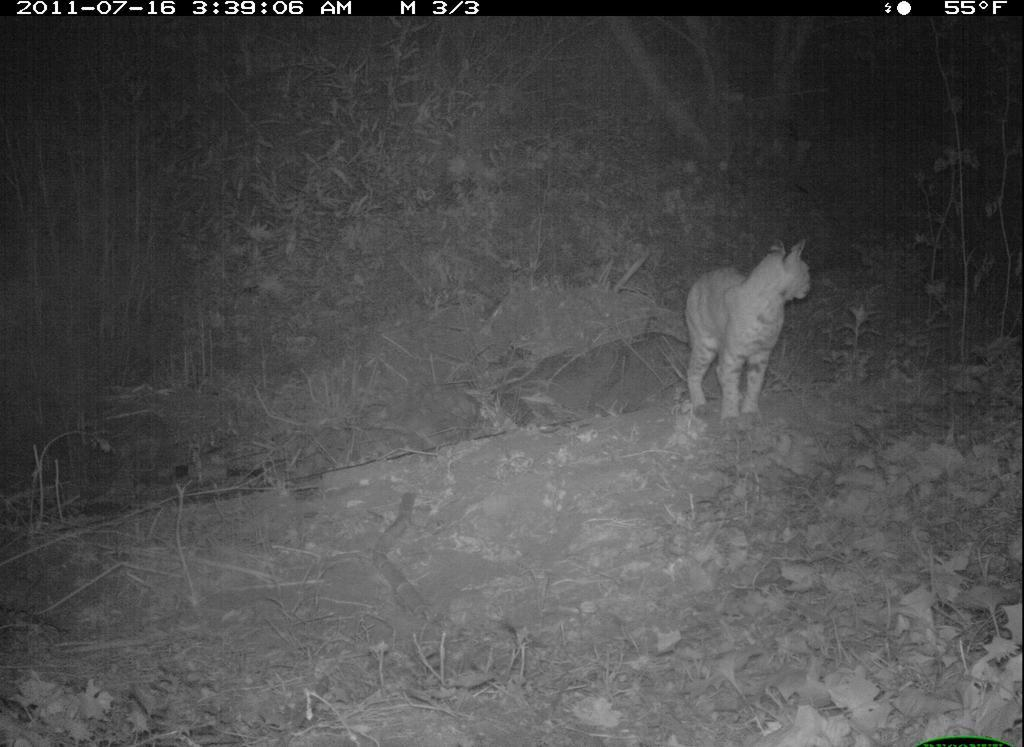bobcat: (680, 227, 821, 433)
